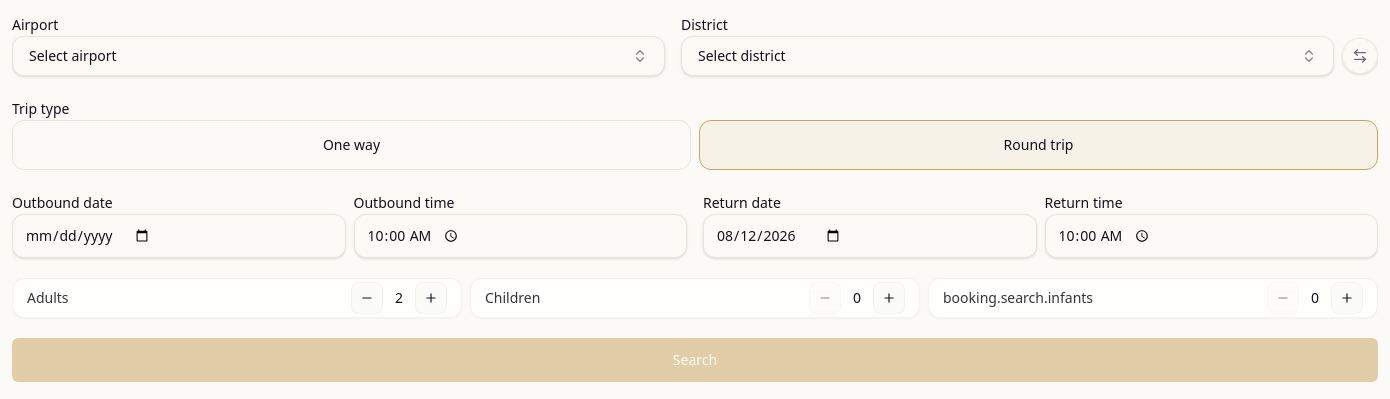
it: TransferSearchForm › hides return fields for one way
Expected: the date field labelled "Return date" is shown, [703,214,1036,258]
Click the button "One way" at [352, 145], box [12,120,691,170]
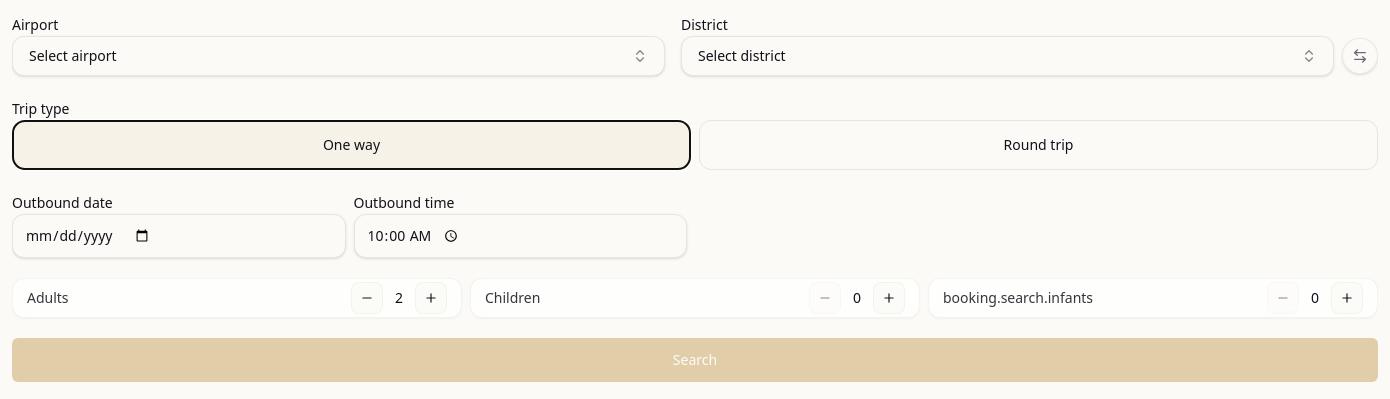
Expected: the label labelled "Return date" is gone
